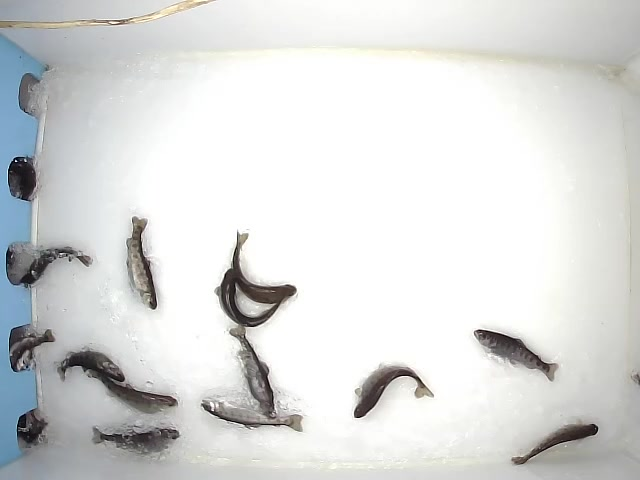fish: (230, 229, 298, 305), (472, 328, 562, 384), (227, 322, 278, 420), (351, 361, 434, 419), (214, 266, 287, 327), (88, 367, 179, 415), (510, 420, 599, 467), (198, 398, 305, 434), (124, 216, 160, 310), (19, 245, 93, 286), (89, 425, 181, 455), (55, 346, 127, 383)
